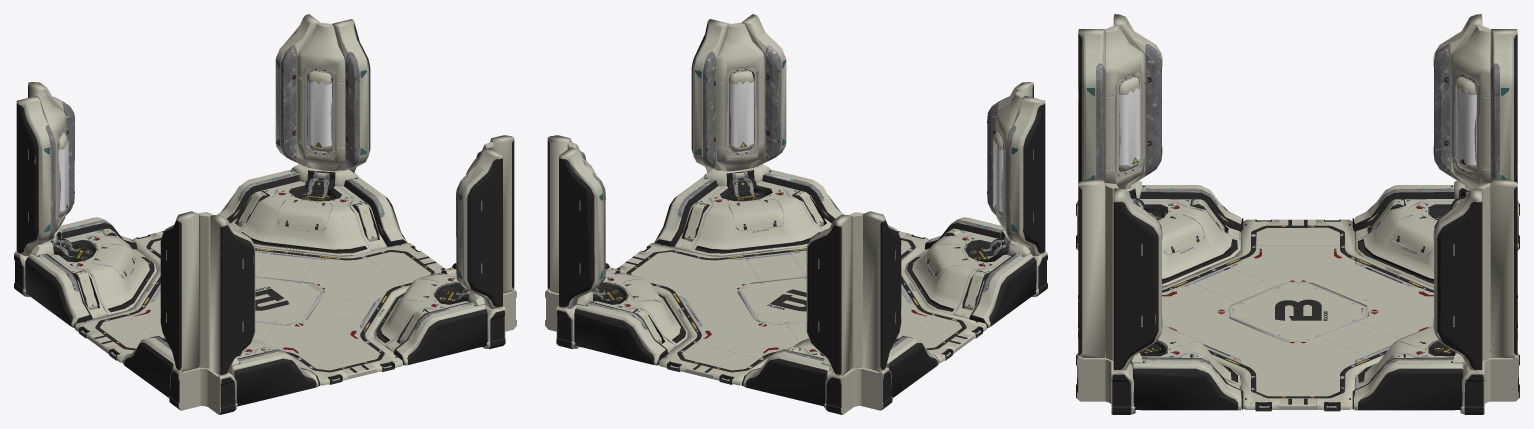
The model's file is corridor.glb.
The picture shows the model from 3 angles, left to right: view 1: azimuth 30°, elevation 25°; view 2: azimuth 150°, elevation 25°; view 3: azimuth 270°, elevation 25°; orthographic projection. The views are drawn at different scales.
Visible parts, largest first — view 1: Corridor; view 2: Corridor; view 3: Corridor.
Boxes of the visible parts, <box> form: Corridor: <box>14,14,516,414</box>; Corridor: <box>545,14,1047,414</box>; Corridor: <box>1076,14,1519,414</box>.
Bounding box in the file's own units: 5.3 × 2.85 × 5.3.
Materials: 11 (1 with a texture image).
